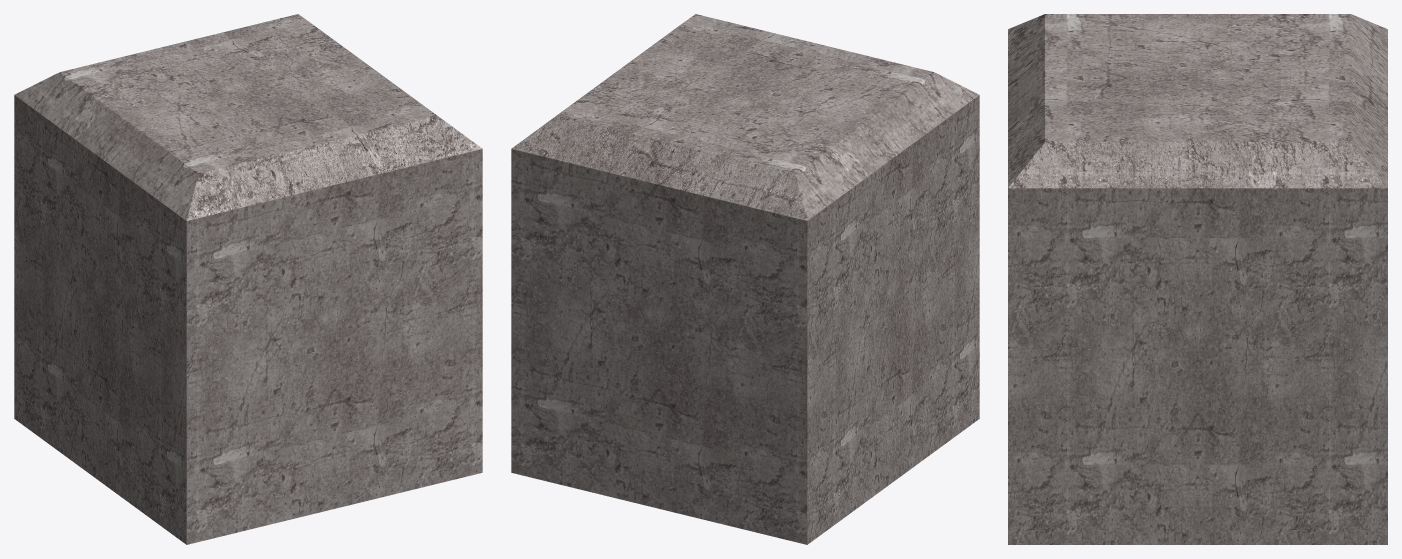
Rendered from concrete block.FBX.
3 renders of one model, left to right at view 1: azimuth 30°, elevation 25°; view 2: azimuth 150°, elevation 25°; view 3: azimuth 270°, elevation 25°, orthographic. The views are drawn at different scales.
Parts seen in each view (by area): view 1: Box001; view 2: Box001; view 3: Box001.
Boxes of the visible parts, box(x1,y1,x2,y2) form: Box001: box(14, 14, 482, 544); Box001: box(511, 14, 979, 544); Box001: box(1008, 14, 1387, 544).
Size of the model in its own units: 23.7 by 26.91 by 23.91.
